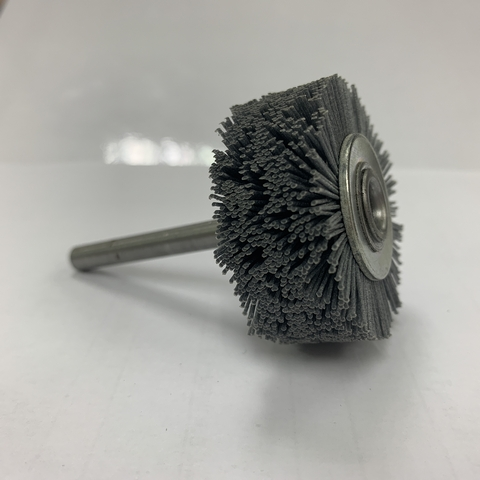Wheel Brush: (82, 63, 419, 349), (65, 74, 407, 349), (75, 92, 393, 339)
